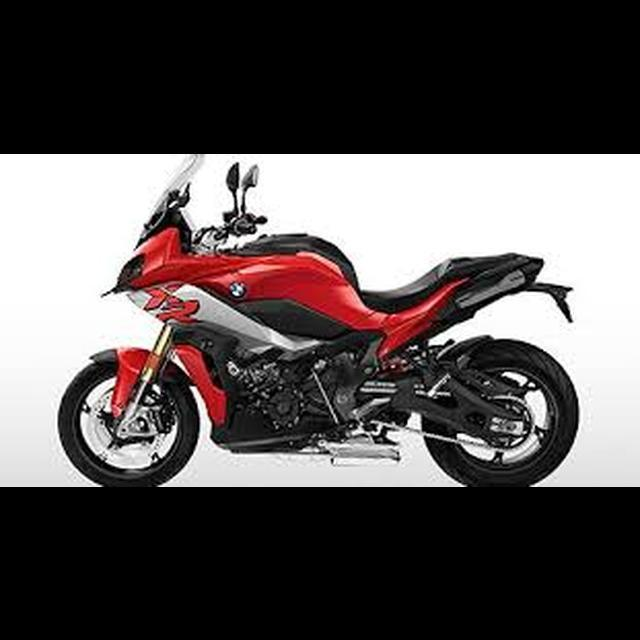motorcycle: (53, 151, 585, 485)
